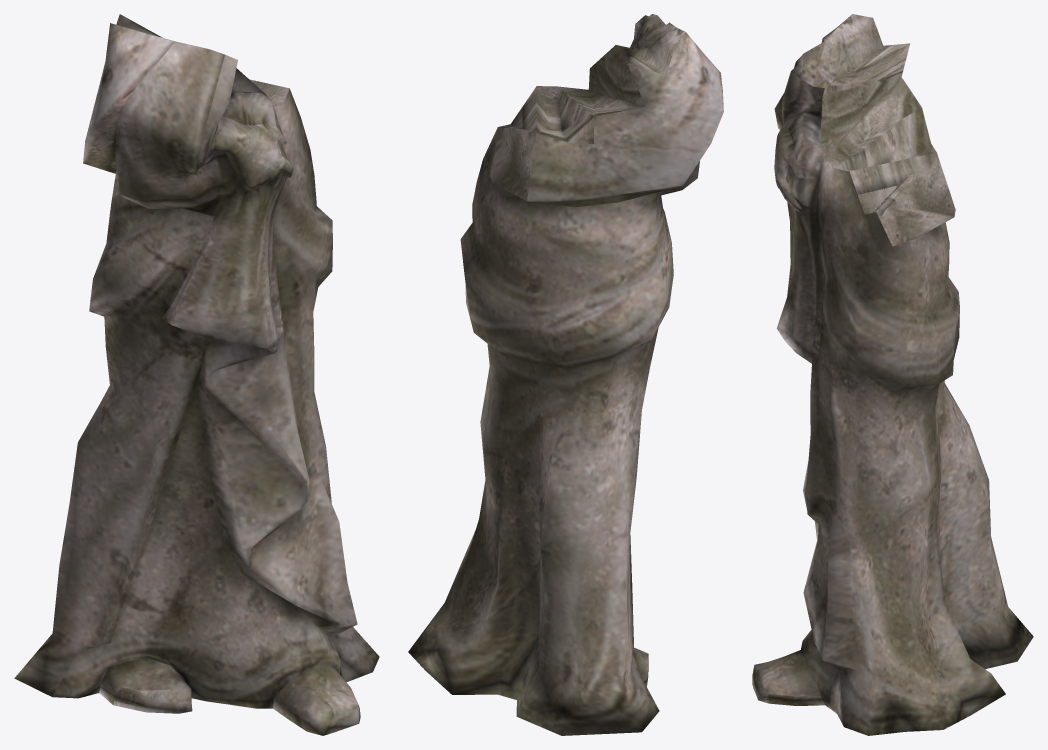
The model's file is Statue.fbx.
The picture shows the model from 3 angles, left to right: view 1: azimuth 30°, elevation 25°; view 2: azimuth 150°, elevation 25°; view 3: azimuth 270°, elevation 25°; orthographic projection. The views are drawn at different scales.
Parts seen in each view (by area): view 1: ORN_Statues_MourningWoman_v01; view 2: ORN_Statues_MourningWoman_v01; view 3: ORN_Statues_MourningWoman_v01.
Part boxes in pixels (left/top/right/bottom): ORN_Statues_MourningWoman_v01: left=14, top=14, right=379, bottom=735; ORN_Statues_MourningWoman_v01: left=408, top=14, right=723, bottom=735; ORN_Statues_MourningWoman_v01: left=752, top=14, right=1033, bottom=735.
Size of the model in its own units: 63.89 by 143 by 59.74.
